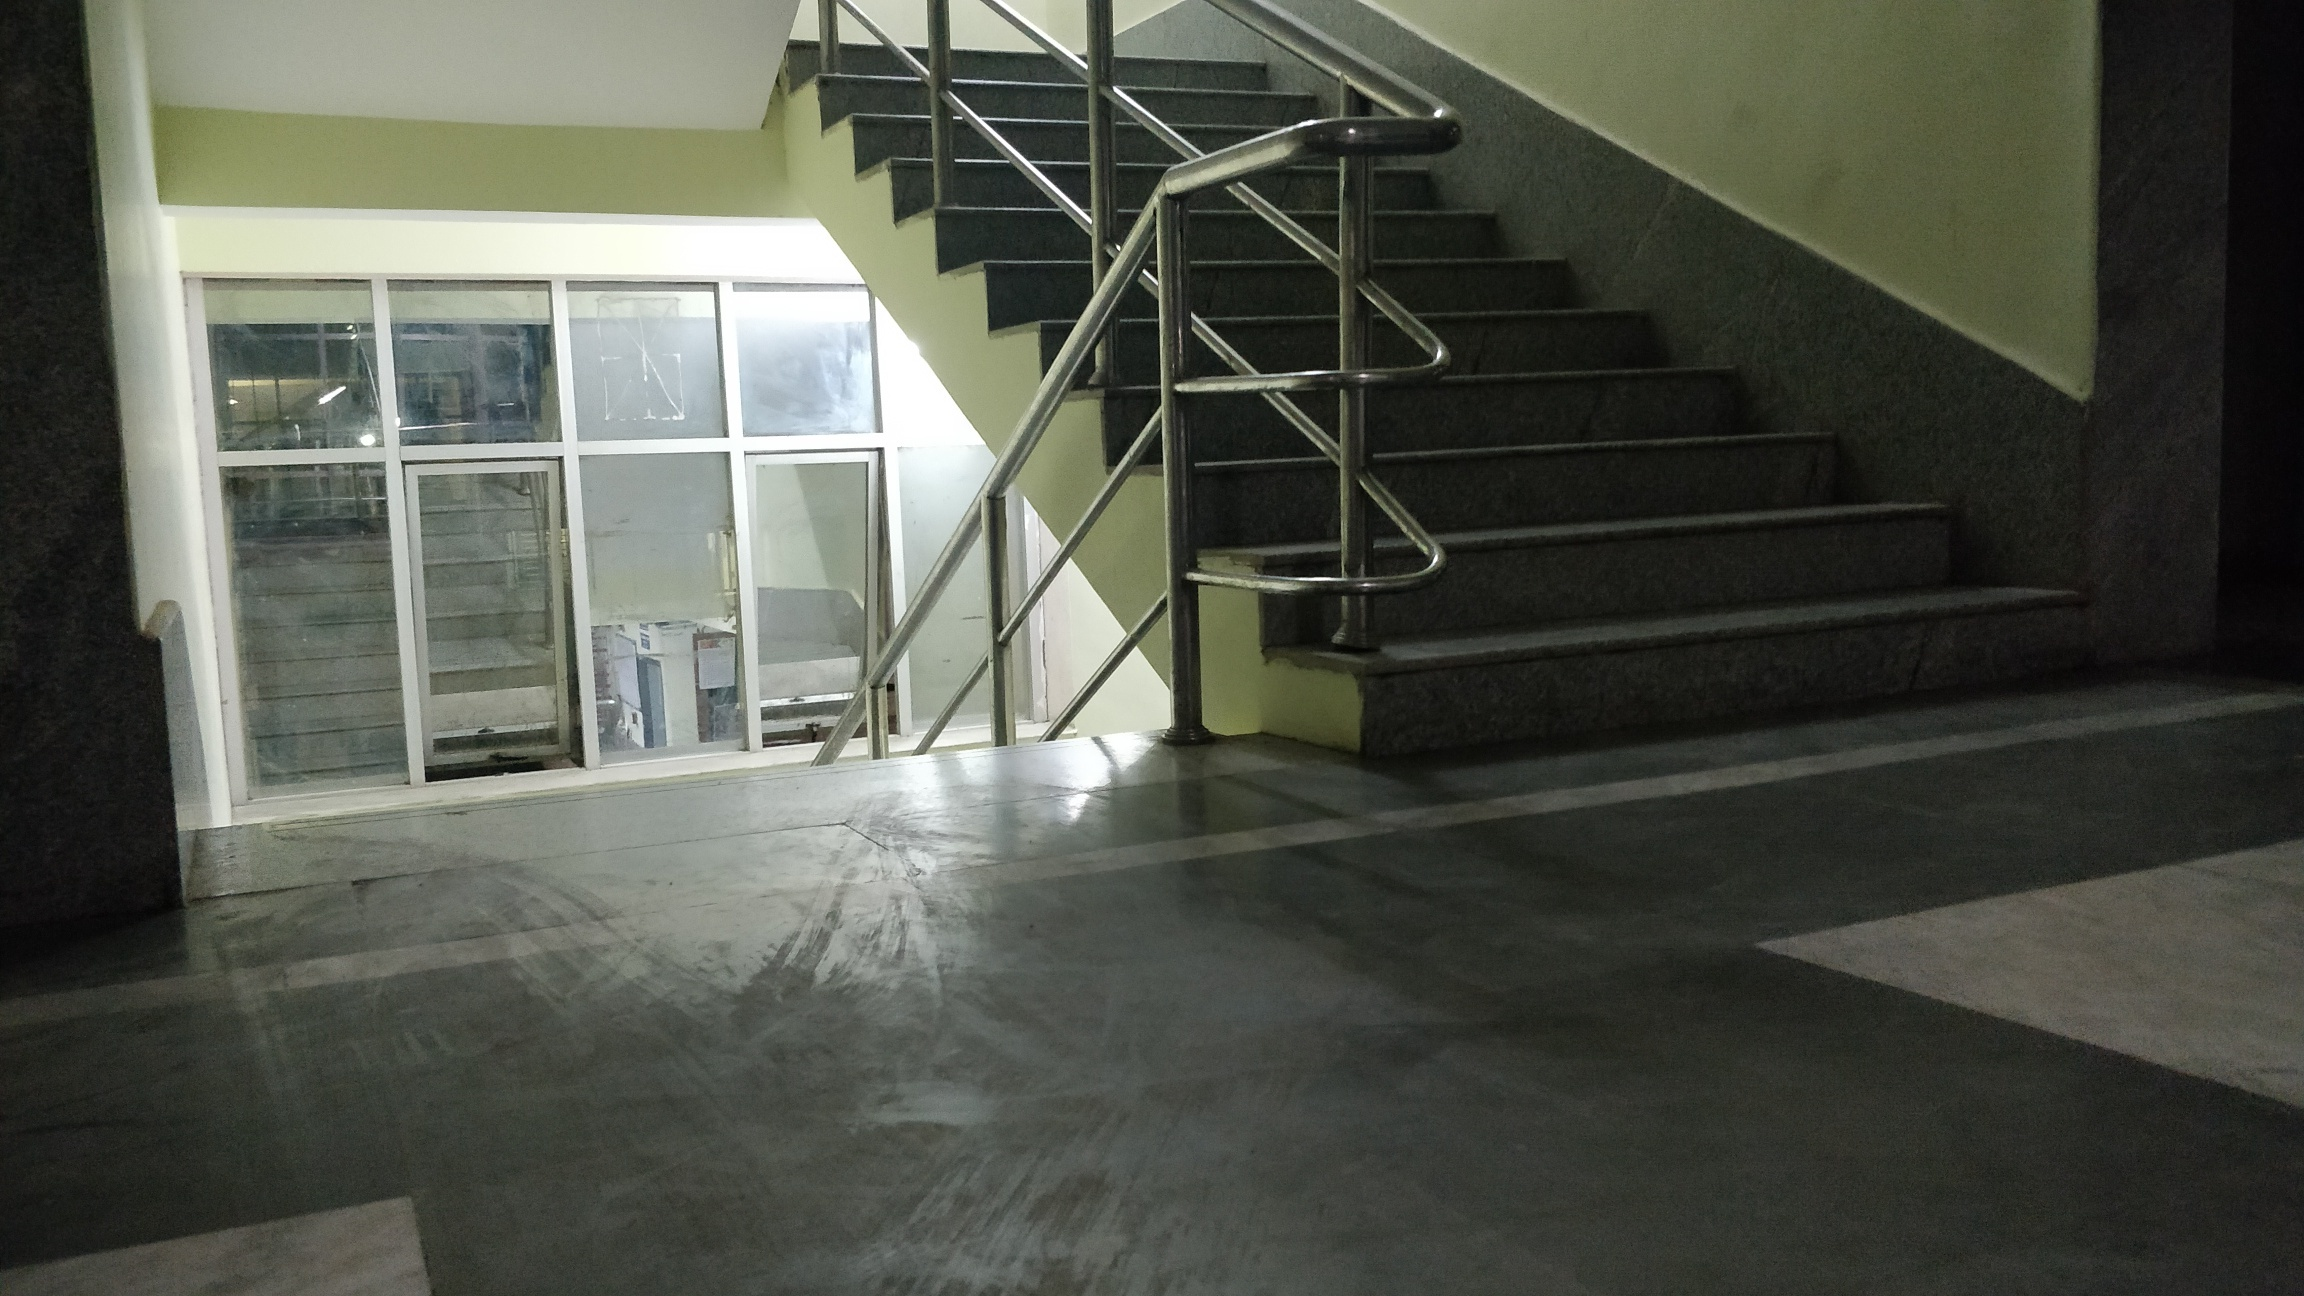stairs_up: (817, 36, 2051, 707)
